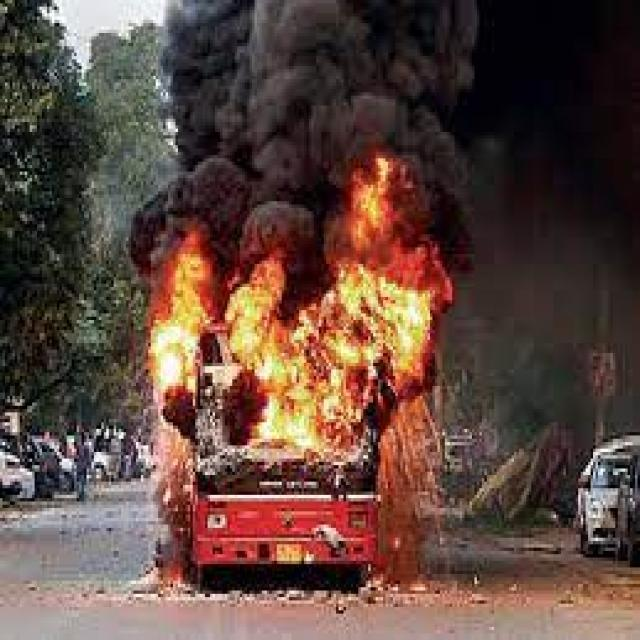Fire: (150, 155, 454, 494)
Smoke: (160, 0, 639, 179), (454, 180, 640, 438)
